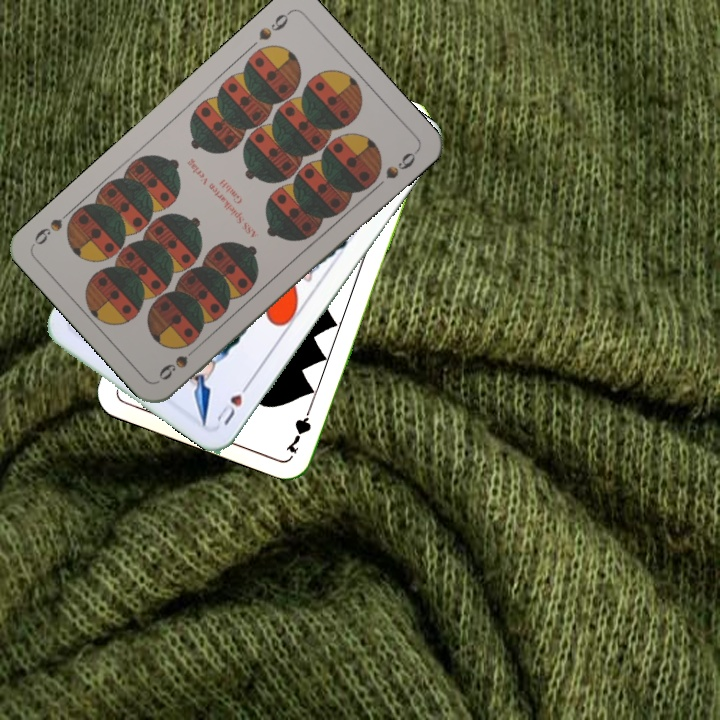G7: (281, 399, 315, 457)
HU: (212, 376, 255, 428)
S9: (155, 339, 204, 383), (254, 7, 294, 44)
